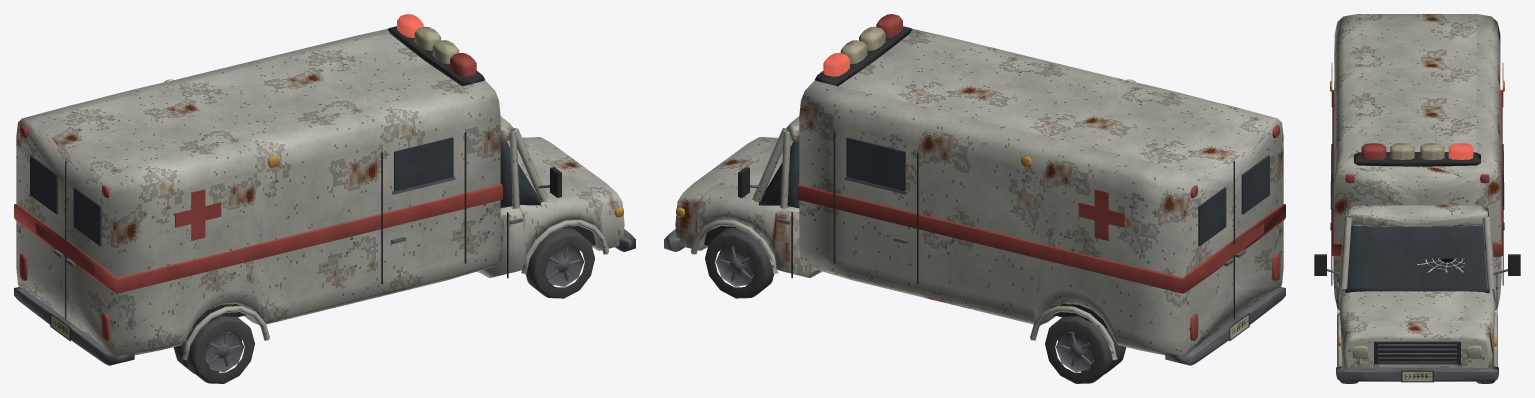
File: ambulance.glb
3 renders of one model, left to right at view 1: azimuth 30°, elevation 25°; view 2: azimuth 150°, elevation 25°; view 3: azimuth 270°, elevation 25°, orthographic. The views are drawn at different scales.
Visible parts, largest first — view 1: detail, body-col; view 2: detail, body-col; view 3: detail.
Part boxes in pixels (<box>): detail: <box>14,14,635,383</box>; body-col: <box>192,226,595,328</box>; detail: <box>664,14,1285,383</box>; body-col: <box>704,226,1107,328</box>; detail: <box>1314,14,1520,383</box>.
Size of the model in its own units: 6.32 by 2.83 by 2.6.
Materials: 11 (11 with a texture image).
